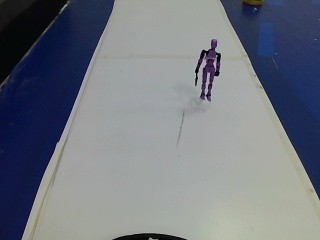pedestrian: (190, 34, 226, 106)
